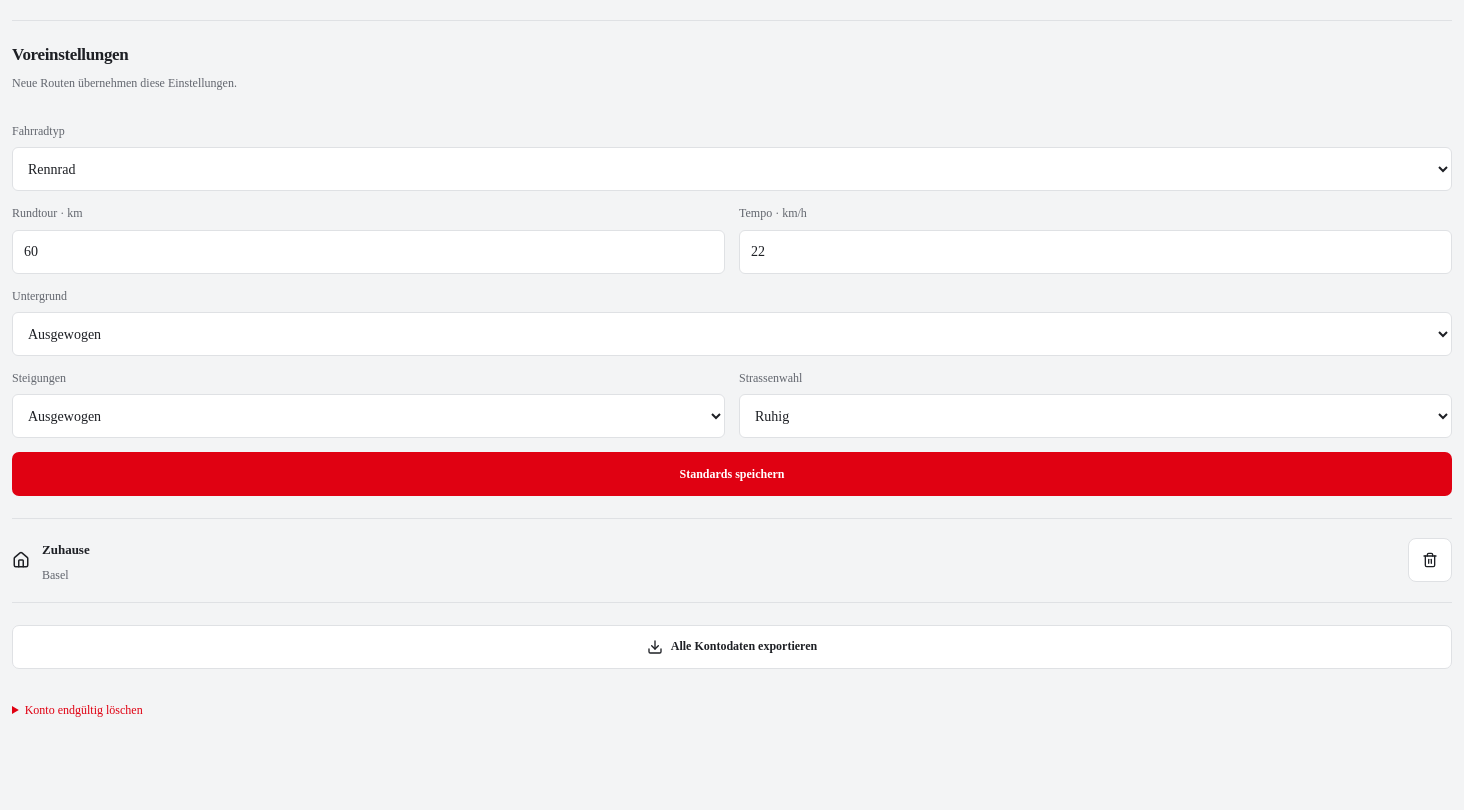
Scenario: account settings › loads saved defaults and submits the edited values
Select "Gravel" in the dropdown labelled "Fahrradtyp" at {"x": 732, "y": 169}, box [12,147,1452,191]
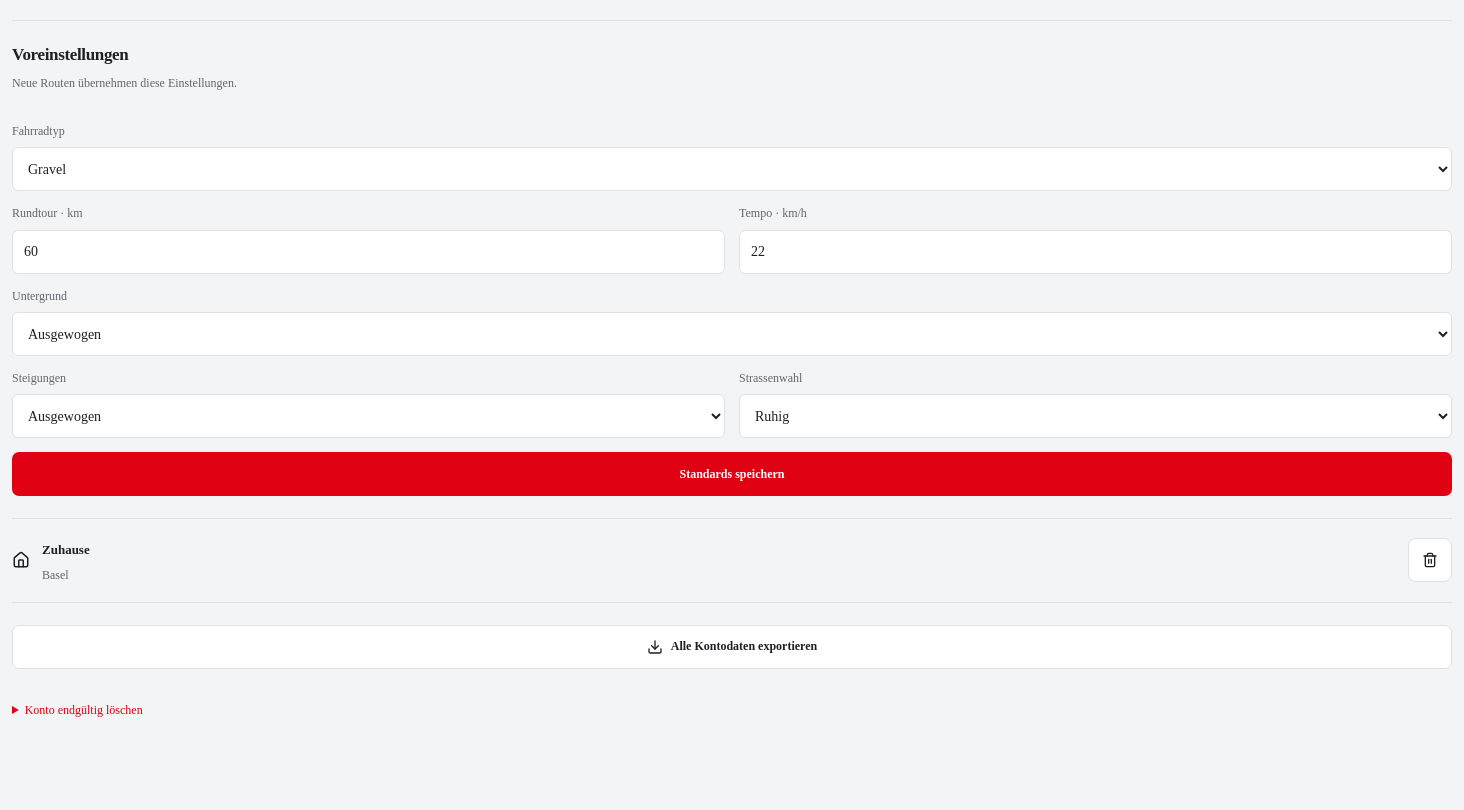
Replace the text in the number field labelled "Rundtour · km" with "80" at {"x": 368, "y": 252}, box [12,230,725,274]
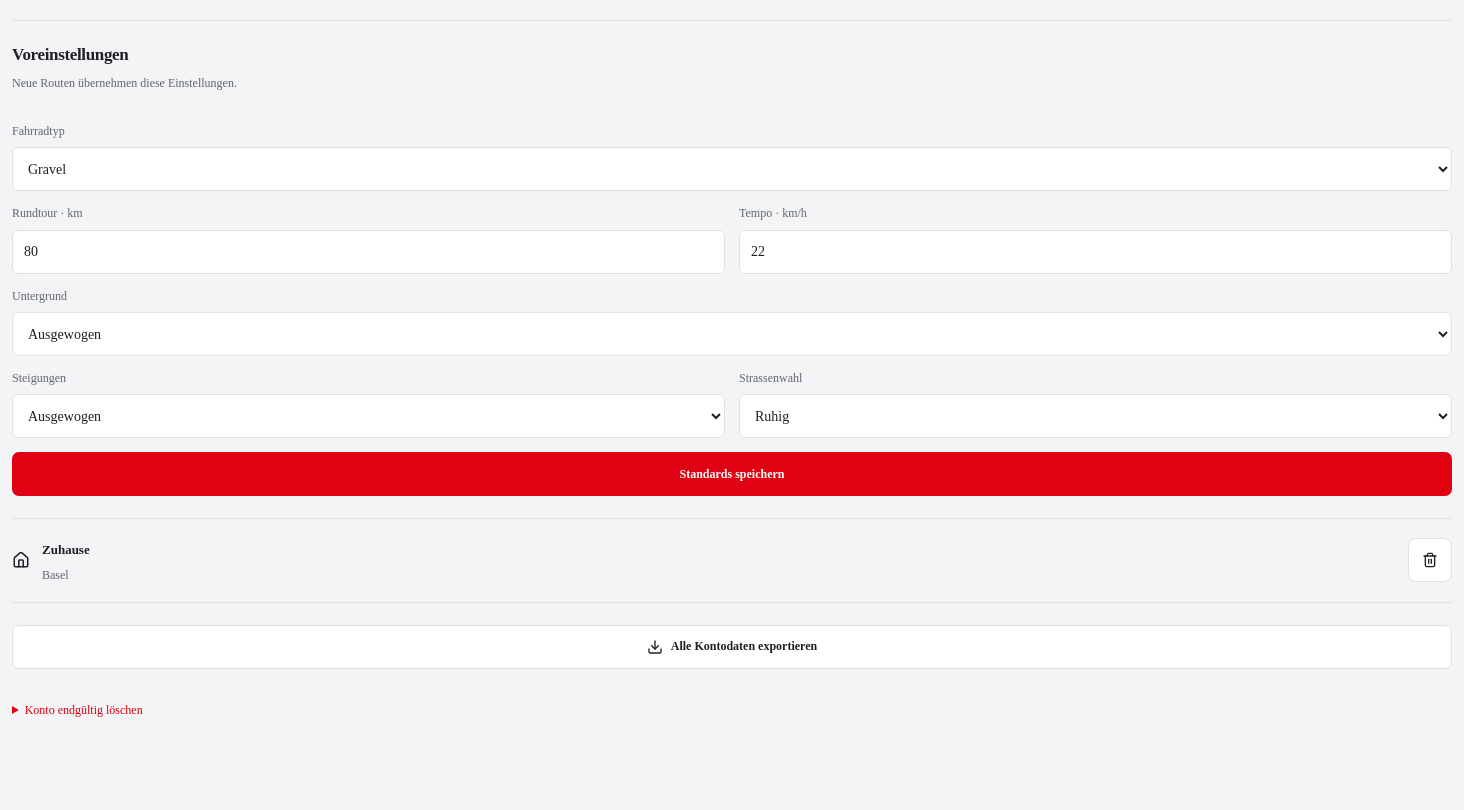
Click the button "Standards speichern" at {"x": 732, "y": 474}, box [12,452,1452,496]
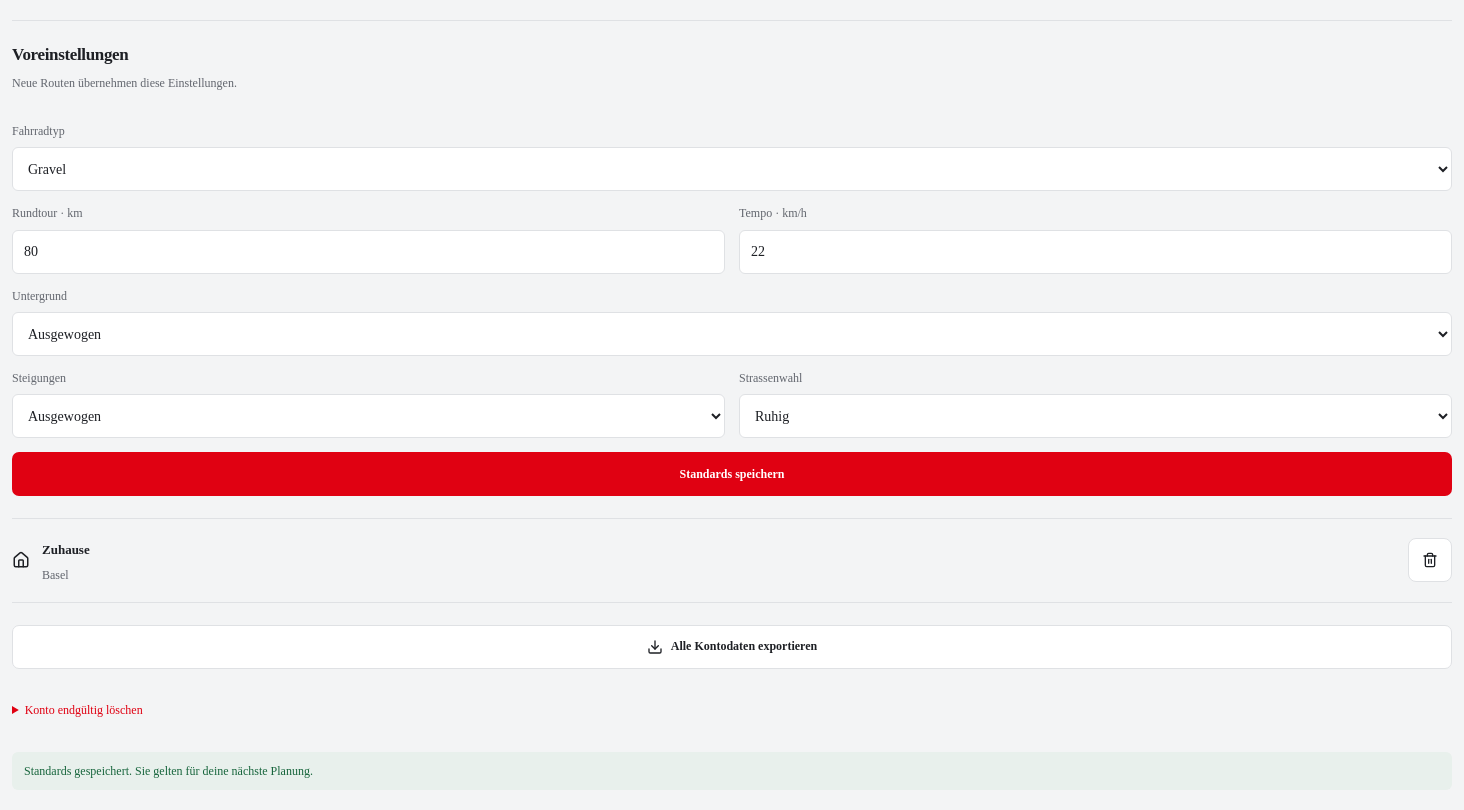
Now the text "Standards gespeichert. Sie gelten für deine nächste Planung." is shown, box [12,752,1452,790]
